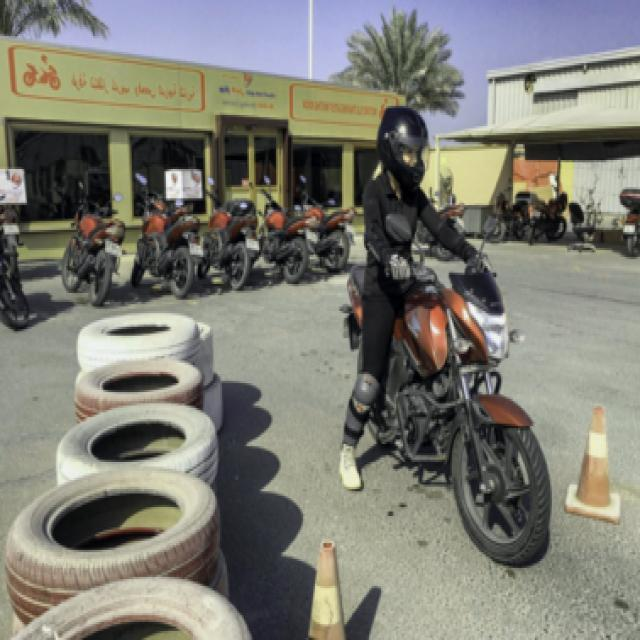Helmet: (370, 99, 440, 201)
